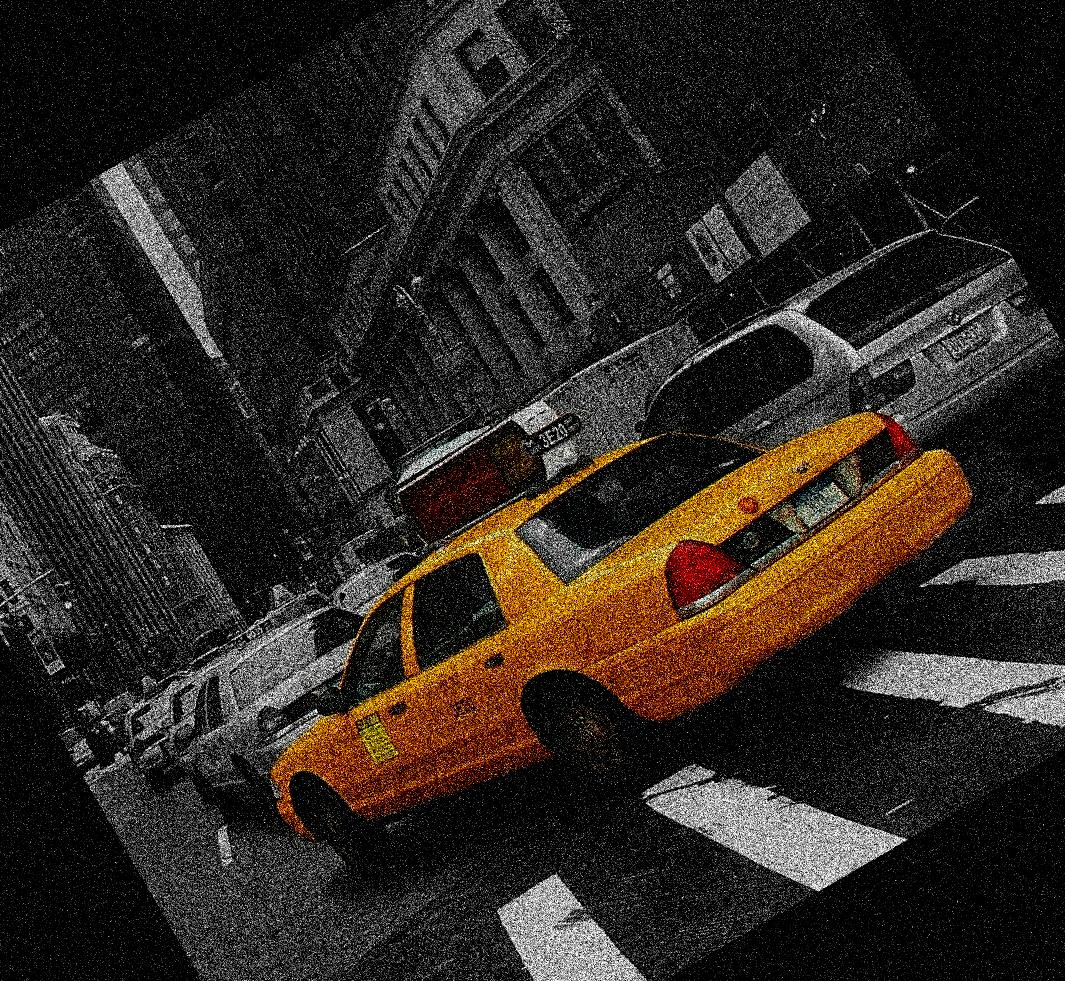taxi: (264, 385, 967, 871)
